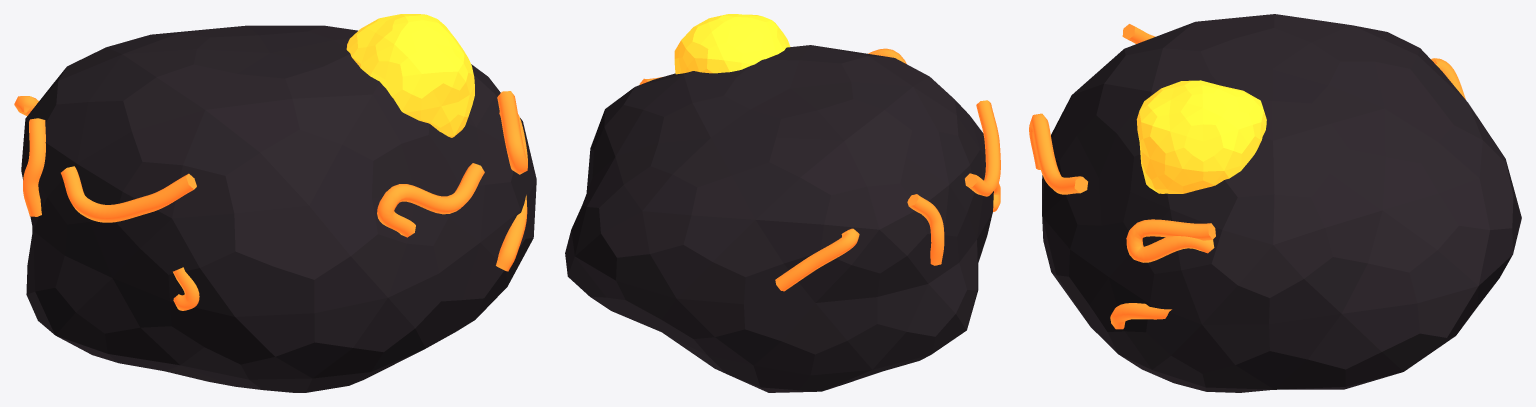
File: batu-api.glb
The picture shows the model from 3 angles, left to right: view 1: azimuth 30°, elevation 25°; view 2: azimuth 150°, elevation 25°; view 3: azimuth 270°, elevation 25°; orthographic projection. The views are drawn at different scales.
Parts seen in each view (by area): view 1: Icosphere, Icosphere.001, tube.005, tube.004, tube.006, tube, tube.002, tube.001; view 2: Icosphere, Icosphere.001, tube.004, tube.003, tube.006; view 3: Icosphere, Icosphere.001, tube, tube.005, tube.002.
Part boxes in pixels (x1,y1,x2,y2): Icosphere: (21,25,536,392); Icosphere.001: (346,14,474,137); tube.005: (377,163,484,237); tube.004: (61,166,196,222); tube.006: (23,118,45,216); tube: (497,91,527,174); tube.002: (496,195,527,271); tube.001: (173,267,199,310); Icosphere: (565,45,993,392); Icosphere.001: (674,14,790,74); tube.004: (965,100,1000,196); tube.003: (775,228,859,291); tube.006: (907,194,944,265); Icosphere: (1042,14,1521,392); Icosphere.001: (1136,80,1266,193); tube: (1126,219,1215,262); tube.005: (1029,113,1087,194); tube.002: (1110,303,1171,329).
Size of the model in its own units: 4.09 by 3.03 by 4.04.
